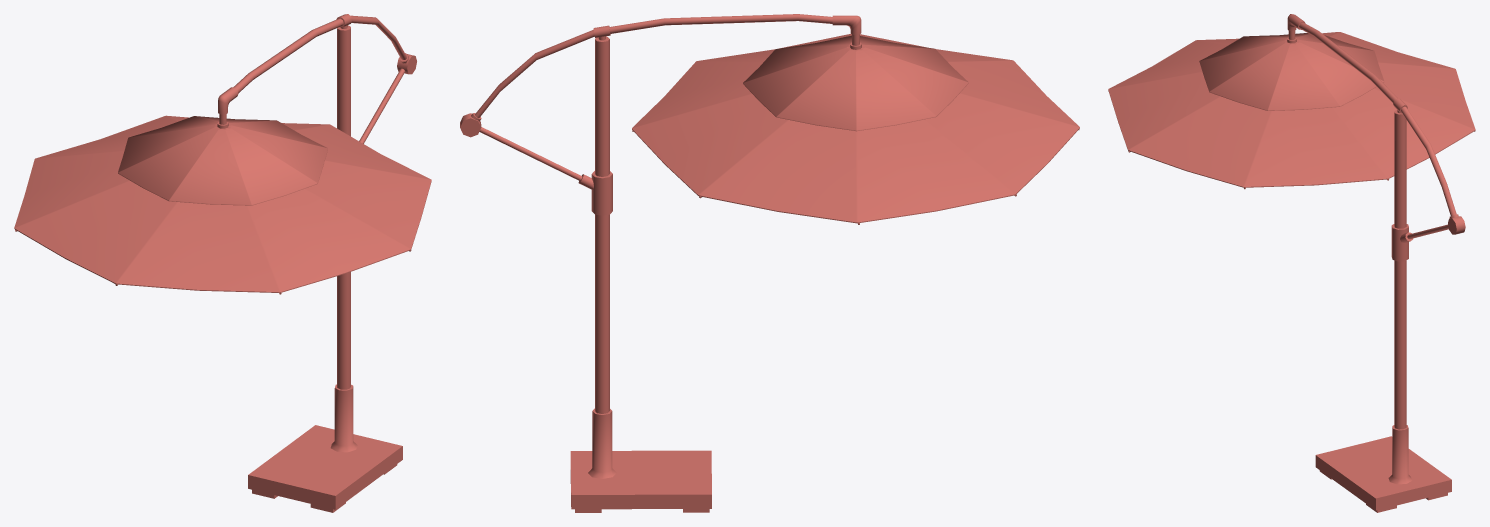
File: sombrilla-original.glb
3 views of the same model, side by side, from view 1: azimuth 30°, elevation 25°; view 2: azimuth 150°, elevation 25°; view 3: azimuth 270°, elevation 25° (orthographic). The views are drawn at different scales.
Parts seen in each view (by area): view 1: 3_l.001; view 2: 3_l.001; view 3: 3_l.001.
Boxes of the visible parts, x1,y1,x2,y2 form: 3_l.001: [14, 14, 431, 512]; 3_l.001: [460, 14, 1079, 512]; 3_l.001: [1108, 14, 1475, 512].
Bounding box in the file's own units: 3.48 × 3.27 × 2.69.
